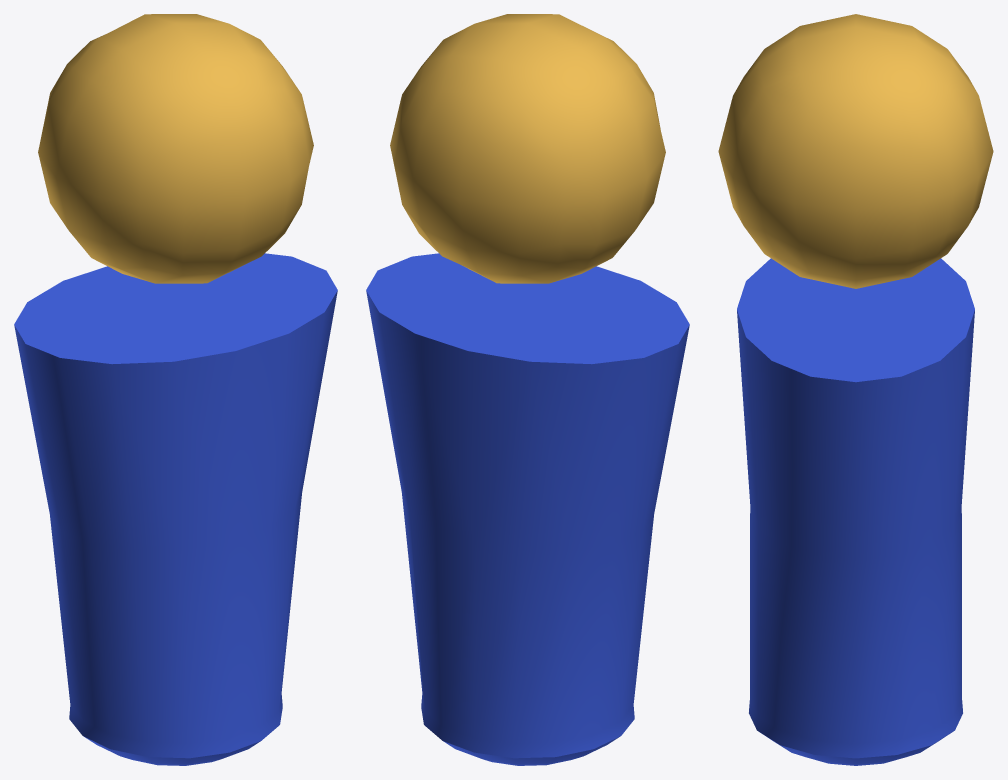
File: Personagem3.fbx
3 views of the same model, side by side, from view 1: azimuth 30°, elevation 25°; view 2: azimuth 150°, elevation 25°; view 3: azimuth 270°, elevation 25° (orthographic).
Parts seen in each view (by area): view 1: Sphere.003; view 2: Sphere.003; view 3: Sphere.003.
Part boxes in pixels (x1=…): Sphere.003: x1=14, y1=14, x2=337, y2=765; Sphere.003: x1=366, y1=14, x2=689, y2=765; Sphere.003: x1=718, y1=14, x2=993, y2=765.
Bounding box in the file's own units: 268 × 618 × 213.
